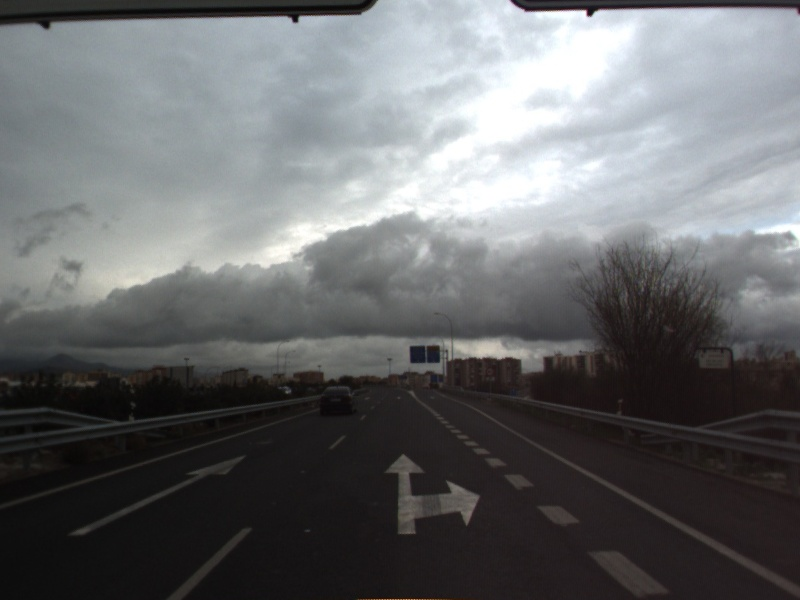STRAIGHT: (65, 453, 248, 538)
STRAIGHT_RIGHT: (381, 451, 484, 536)
